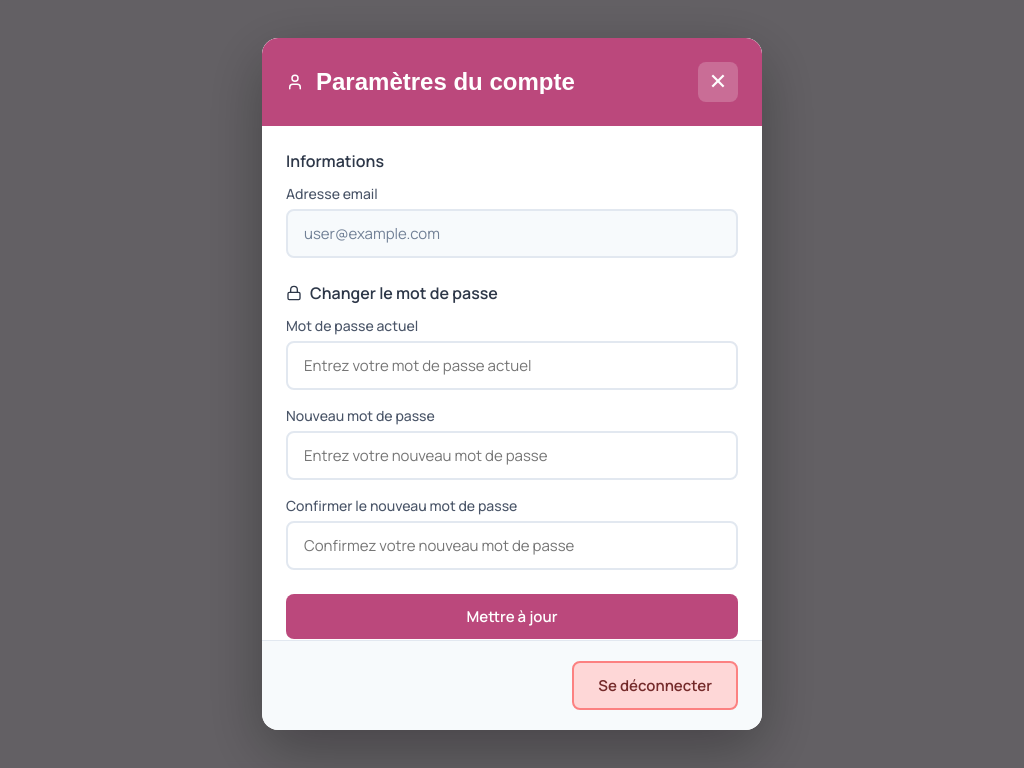
Test: AccountSettingsModal › affiche un message de succès après changement de mot de passe réussi
In the password field labelled "Mot de passe actuel": (512, 366) 286,341 -> 738,390, type "oldpassword"
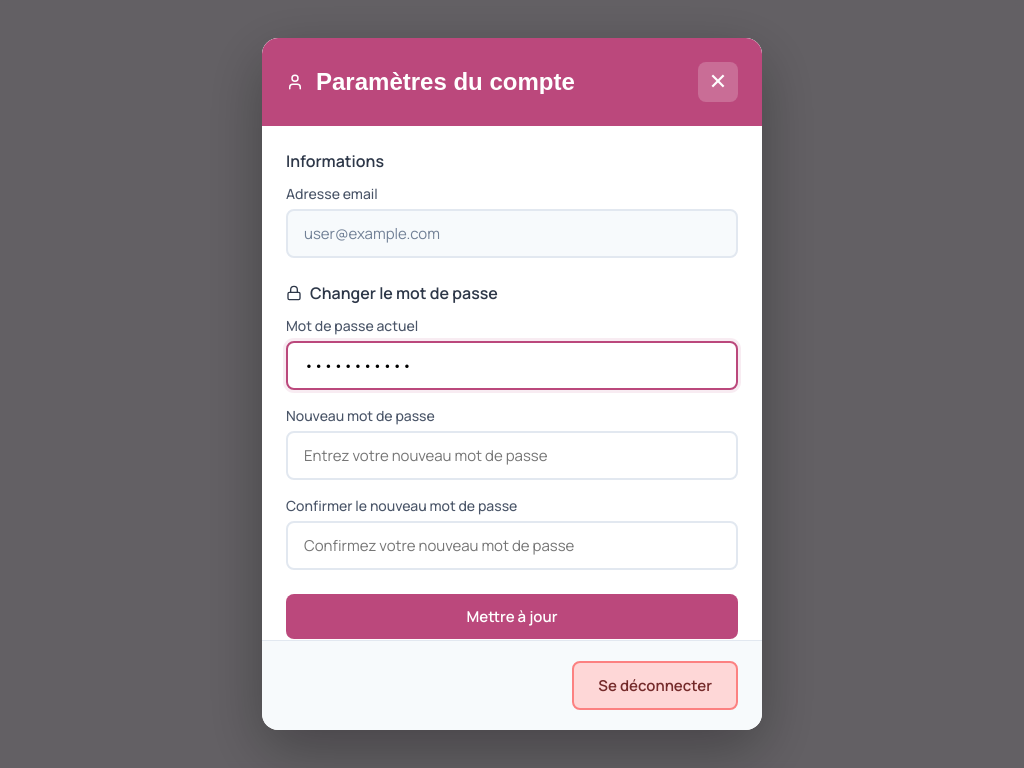
In the password field labelled "Nouveau mot de passe": (512, 456) 286,431 -> 738,480, type "Newpass1"
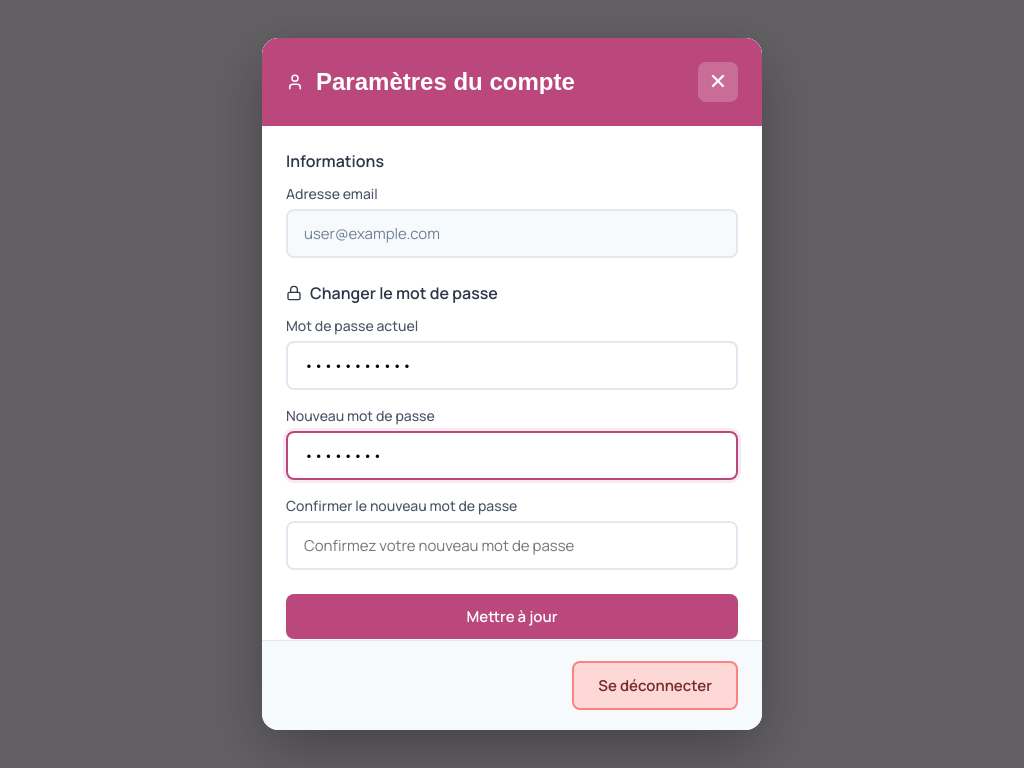
In the password field labelled "Confirmer le nouveau mot de passe": (512, 546) 286,521 -> 738,570, type "Newpass1"
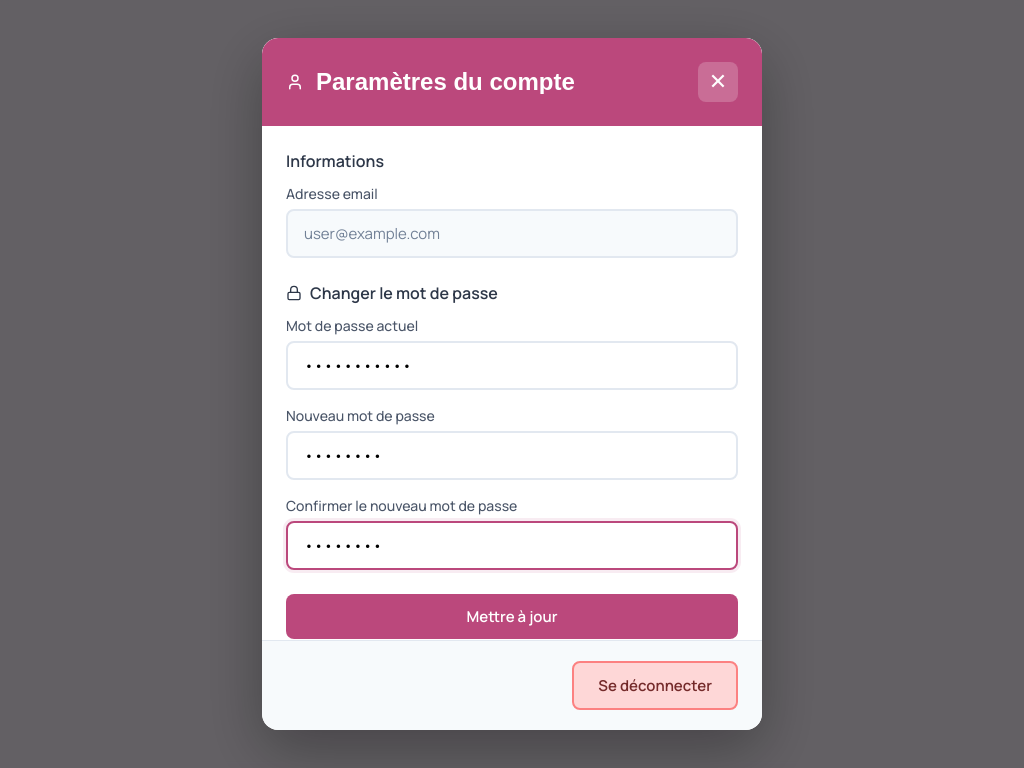
Click the button "Mettre à jour": click(512, 617) 286,594 -> 738,639
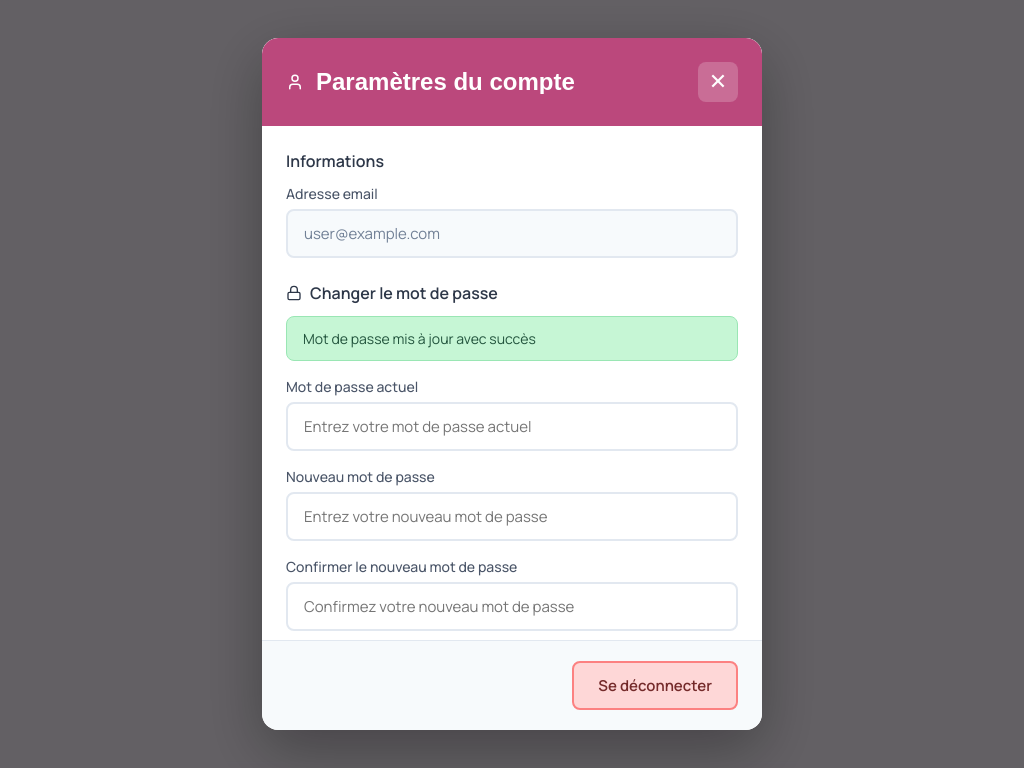
Now the text "Mot de passe mis à jour avec succès" is shown, box 286,316 -> 738,361
